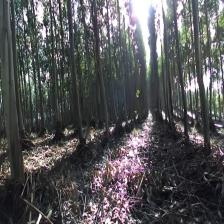trunk: (0, 0, 25, 183), (67, 7, 85, 146), (194, 18, 211, 153), (93, 13, 110, 138), (174, 14, 188, 138)
